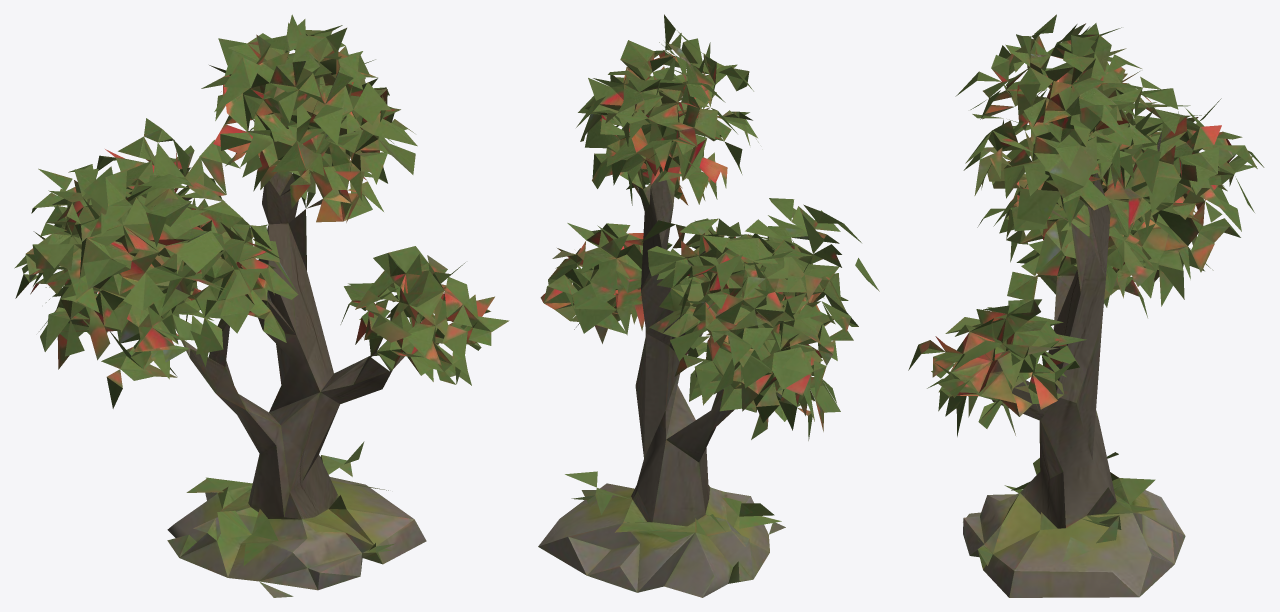
Rendered from angular-common-nature-small-fruit-tree-cottage-normal.glb.
The picture shows the model from 3 angles, left to right: view 1: azimuth 30°, elevation 25°; view 2: azimuth 150°, elevation 25°; view 3: azimuth 270°, elevation 25°; orthographic projection. The views are drawn at different scales.
Visible parts, largest first — view 1: Mesh_0; view 2: Mesh_0; view 3: Mesh_0.
Boxes of the visible parts, x1,y1,x2,y2 form: Mesh_0: (14,14,509,597); Mesh_0: (538,14,879,597); Mesh_0: (908,14,1264,597).
Bounding box in the file's own units: 1.2 × 1.59 × 0.9794.
Materials: 1 (1 with a texture image).
